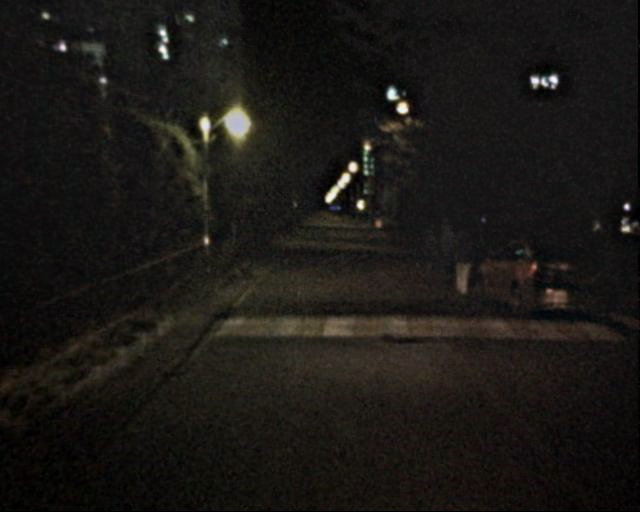person: (416, 222, 447, 287), (450, 231, 477, 298), (437, 223, 464, 286)
